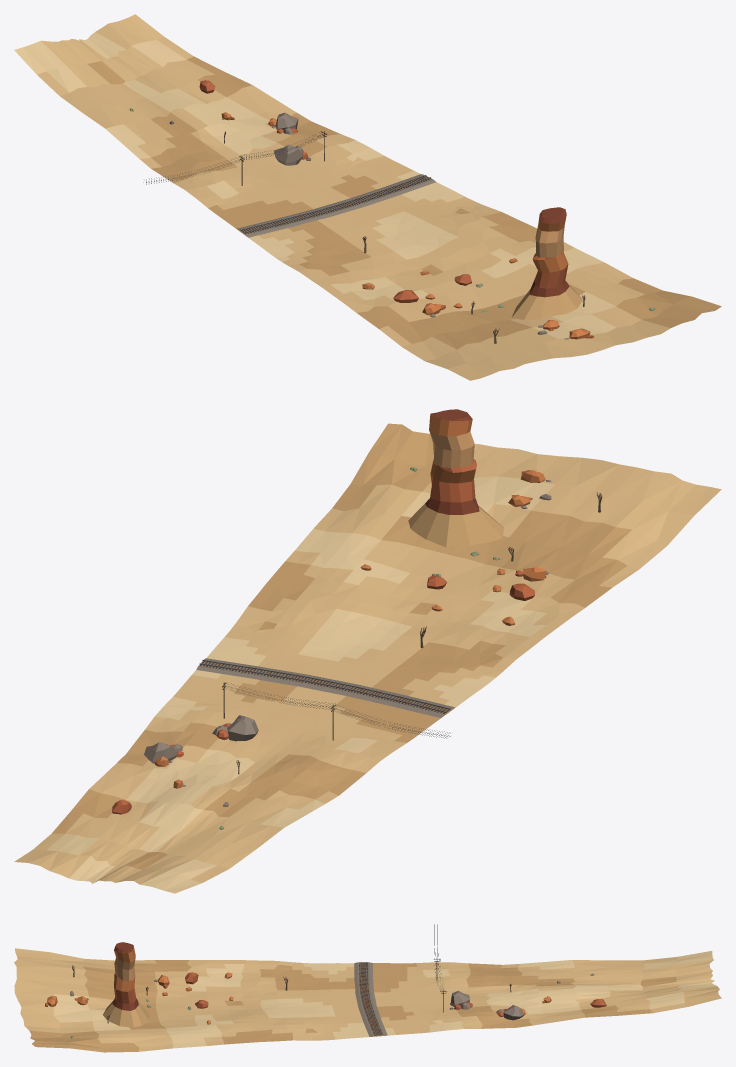
The model's file is SM_FG_Chunk_CurveL_B.fbx.
3 renders of one model, top to bottom at view 1: azimuth 30°, elevation 25°; view 2: azimuth 150°, elevation 25°; view 3: azimuth 270°, elevation 25°, orthographic. The views are drawn at different scales.
Visible parts, largest first — view 1: FG_Chunk_CurveL_B_Ground, FG_Chunk_CurveL_B_SceneryMid, FG_Chunk_CurveL_B_Track, FG_Chunk_CurveL_B_SceneryNear; view 2: FG_Chunk_CurveL_B_Ground, FG_Chunk_CurveL_B_SceneryMid, FG_Chunk_CurveL_B_Track, FG_Chunk_CurveL_B_SceneryNear; view 3: FG_Chunk_CurveL_B_Ground, FG_Chunk_CurveL_B_SceneryMid, FG_Chunk_CurveL_B_Track, FG_Chunk_CurveL_B_SceneryNear.
Boxes of the visible parts, box(x1,y1,x2,y2) form: FG_Chunk_CurveL_B_Ground: box(14, 14, 721, 380); FG_Chunk_CurveL_B_SceneryMid: box(199, 80, 582, 319); FG_Chunk_CurveL_B_Track: box(236, 174, 435, 237); FG_Chunk_CurveL_B_SceneryNear: box(129, 108, 655, 343); FG_Chunk_CurveL_B_Ground: box(14, 423, 721, 893); FG_Chunk_CurveL_B_SceneryMid: box(112, 409, 504, 814); FG_Chunk_CurveL_B_Track: box(196, 658, 455, 717); FG_Chunk_CurveL_B_SceneryNear: box(154, 467, 602, 829); FG_Chunk_CurveL_B_Ground: box(14, 948, 721, 1052); FG_Chunk_CurveL_B_SceneryMid: box(103, 942, 606, 1027); FG_Chunk_CurveL_B_Track: box(354, 962, 387, 1036); FG_Chunk_CurveL_B_SceneryNear: box(45, 924, 594, 1038).
Bounding box in the file's own units: 7956 × 20314 × 2456.
